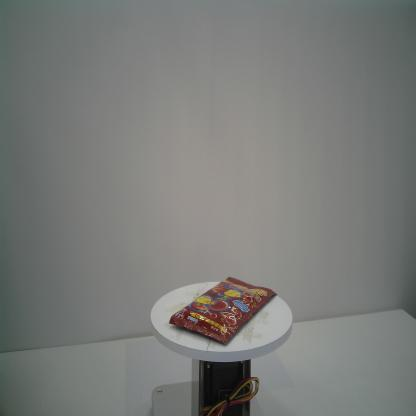Candy: (167, 276, 278, 346)
